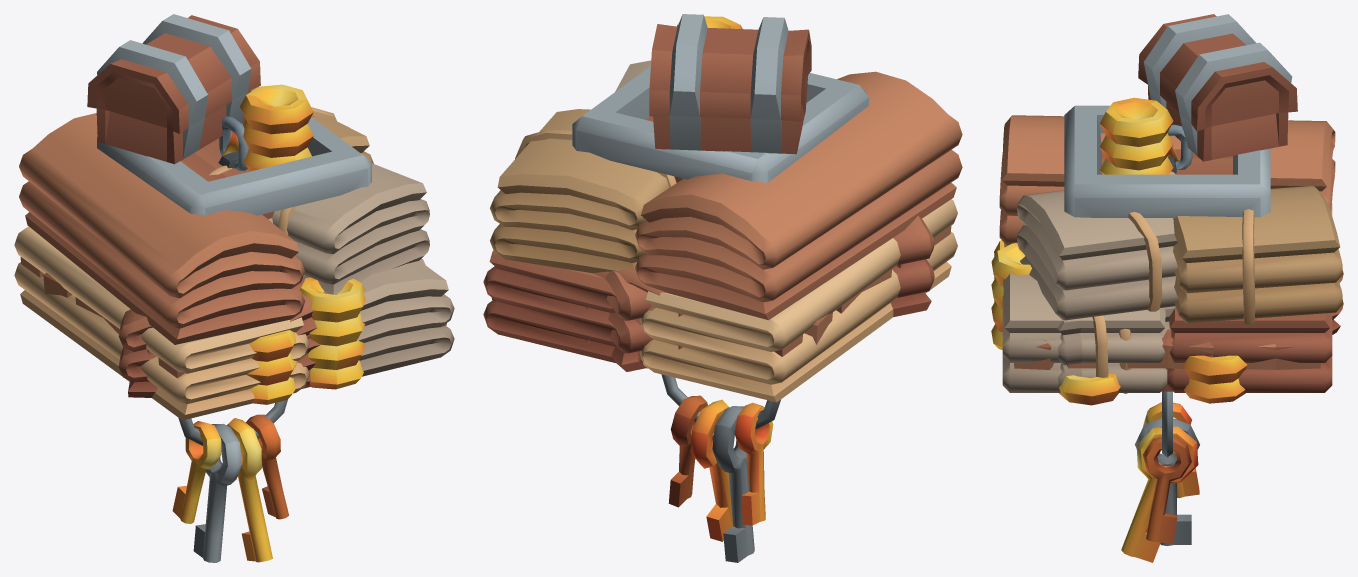
File: holding-stall.glb
3 views of the same model, side by side, from view 1: azimuth 30°, elevation 25°; view 2: azimuth 150°, elevation 25°; view 3: azimuth 270°, elevation 25° (orthographic). The views are drawn at different scales.
Parts seen in each view (by area): view 1: Textiles_Stack_Large, box_small_decorated, Textiles_Stack_Small, keyring_hanging, Pallet_Wood, lantern_handle, Textiles_C; view 2: Textiles_Stack_Large, box_small_decorated, keyring_hanging, Textiles_Stack_Small, Pallet_Wood, Textiles_C; view 3: Textiles_Stack_Large, box_small_decorated, Textiles_Stack_Small, keyring_hanging, Pallet_Wood, lantern_handle.
Boxes of the visible parts, x1,y1,x2,y2 form: Textiles_Stack_Large: (14, 87, 454, 420); box_small_decorated: (87, 14, 371, 404); Textiles_Stack_Small: (118, 163, 429, 397); keyring_hanging: (172, 399, 288, 562); Pallet_Wood: (20, 257, 446, 378); lantern_handle: (219, 116, 248, 170); Textiles_C: (290, 275, 329, 388); Textiles_Stack_Large: (483, 71, 962, 402); box_small_decorated: (572, 14, 868, 182); keyring_hanging: (661, 374, 780, 562); Textiles_Stack_Small: (605, 60, 934, 371); Pallet_Wood: (491, 226, 951, 356); Textiles_C: (586, 268, 683, 368); Textiles_Stack_Large: (999, 115, 1342, 392); box_small_decorated: (991, 14, 1297, 405); Textiles_Stack_Small: (1017, 190, 1343, 393); keyring_hanging: (1121, 391, 1199, 562); Pallet_Wood: (1014, 329, 1320, 391); lantern_handle: (1167, 124, 1192, 169).
Bounding box in the file's own units: 1.74 × 2.68 × 1.71.
Materials: 5 (4 with a texture image).
